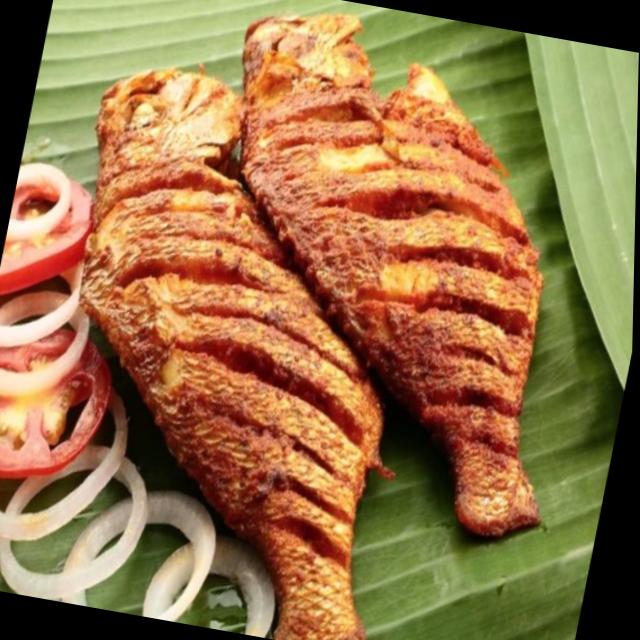FISH FRY: (2, 0, 639, 640)
